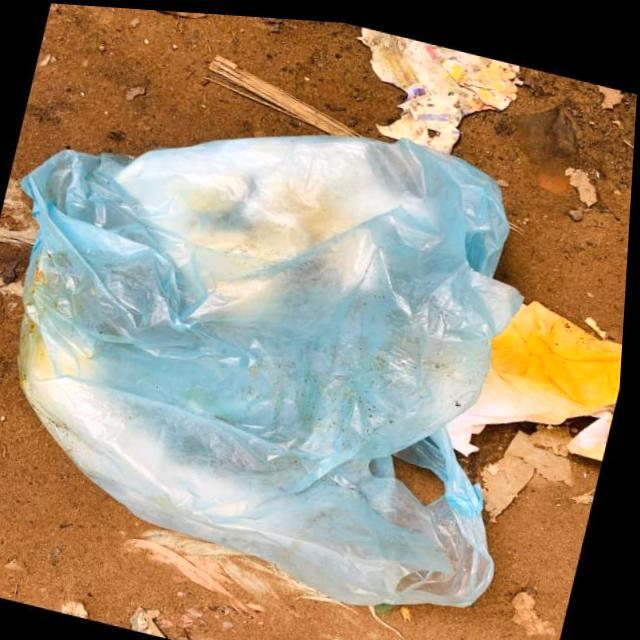polythene: (54, 168, 469, 524)
